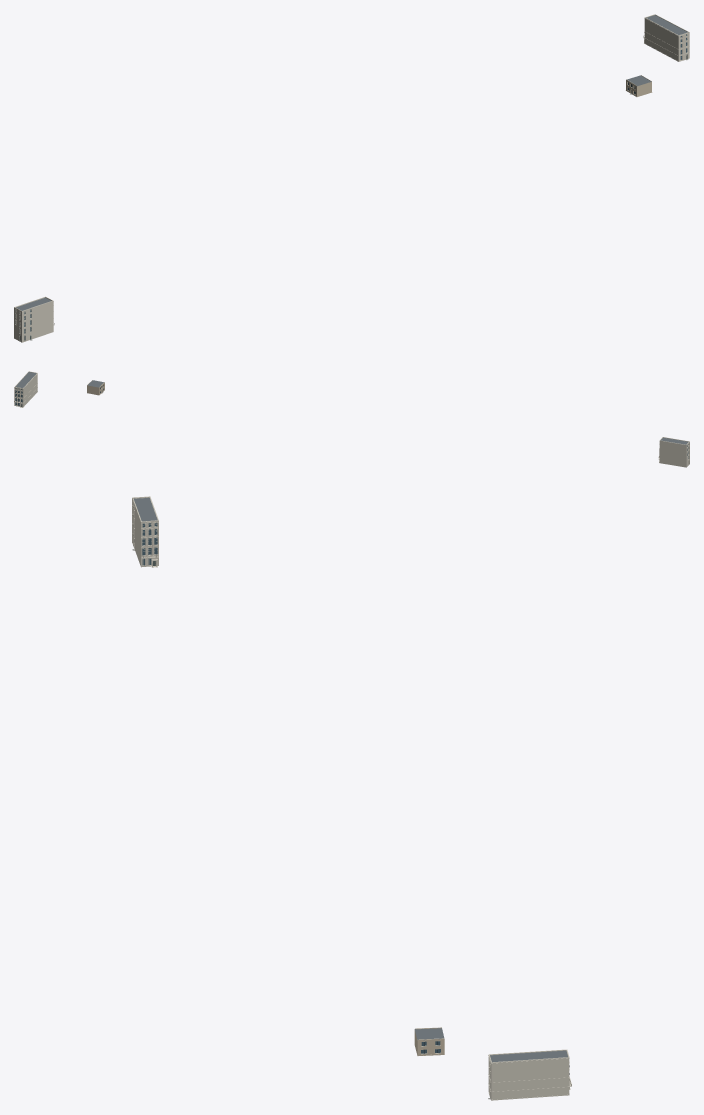
The model's file is replacement.glb.
The picture shows the model from 3 angles, top to bottom: view 1: azimuth 30°, elevation 25°; view 2: azimuth 150°, elevation 25°; view 3: azimuth 270°, elevation 25°; orthographic projection. The views are drawn at different scales.
Parts seen in each view (by area): view 1: 9 Queens Gate | pierced masonry, 22 Princes Gate | pierced muted masonry facades; view 2: 9 Queens Gate | pierced masonry, 22 Princes Gate | pierced muted masonry facades; view 3: 22 Princes Gate | pierced muted masonry facades, 9 Queens Gate | pierced masonry.
Boxes of the visible parts, x1=… form: 9 Queens Gate | pierced masonry: x1=14, y1=298, x2=53, y2=342; 22 Princes Gate | pierced muted masonry facades: x1=644, y1=18, x2=689, y2=61; 9 Queens Gate | pierced masonry: x1=659, y1=437, x2=689, y2=467; 22 Princes Gate | pierced muted masonry facades: x1=14, y1=374, x2=37, y2=406; 22 Princes Gate | pierced muted masonry facades: x1=488, y1=1057, x2=569, y2=1099; 9 Queens Gate | pierced masonry: x1=132, y1=497, x2=158, y2=567.
Bounding box in the file's own units: 525 × 19.9 × 175.
